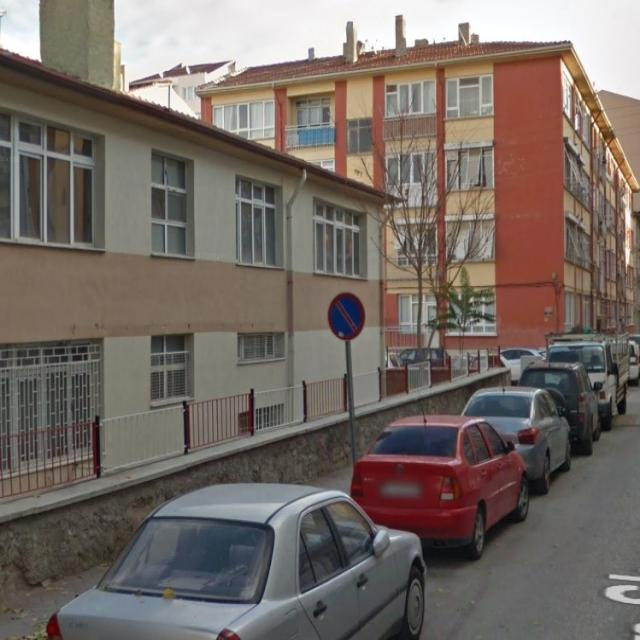parkyasak: (327, 293, 365, 341)
